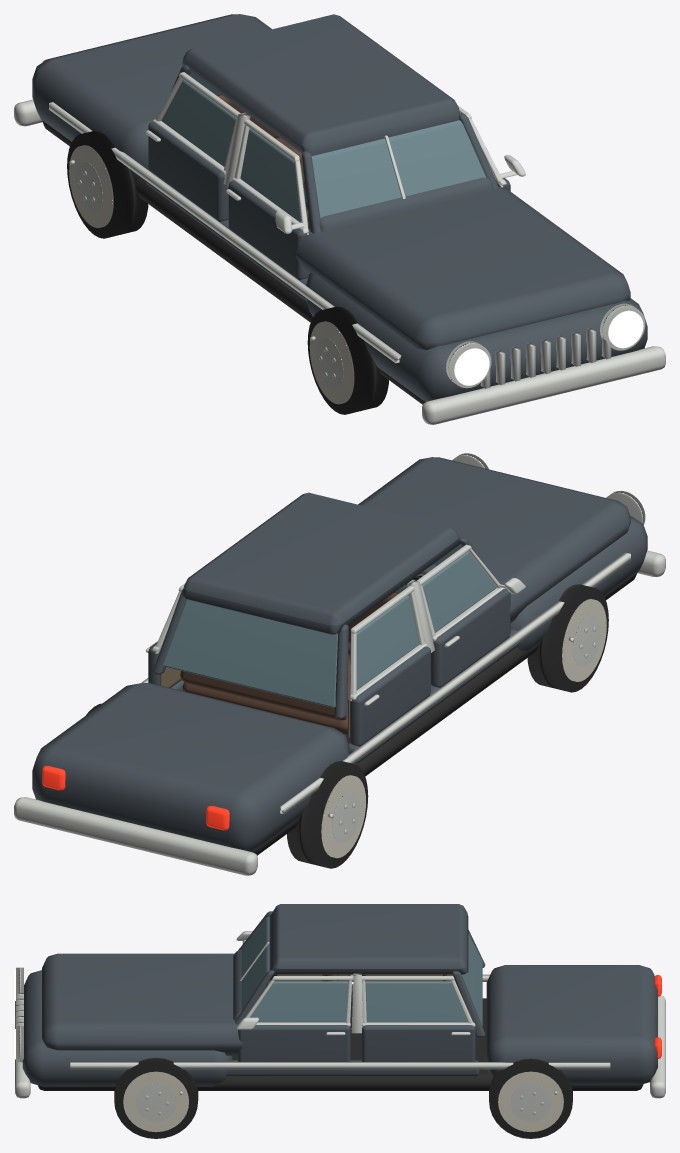
Rendered from packard.glb.
The picture shows the model from 3 angles, top to bottom: view 1: azimuth 30°, elevation 25°; view 2: azimuth 150°, elevation 25°; view 3: azimuth 270°, elevation 25°; orthographic projection. The views are drawn at different scales.
Parts seen in each view (by area): view 1: front body, windscreen divider, split windscreen, door skin.001, floor pan, door skin, door window.001, wheel.001, wheel, door window, headlight, door window surround (+5 smaller); view 2: front body, windscreen divider, split windscreen, door skin.001, door skin, bench cushion, floor pan, door window.001, wheel, wheel.001, door window, door window surround.002 (+6 smaller); view 3: front body, windscreen divider, floor pan, door skin.003, door skin.002, door window.003, door window.002, split windscreen, wheel.002, wheel.003, whitewall.003, whitewall.002 (+4 smaller).
Boxes of the visible parts, bbox=[...] form: front body: bbox=[32, 14, 647, 401]; windscreen divider: bbox=[14, 99, 665, 424]; split windscreen: bbox=[189, 72, 486, 217]; door skin.001: bbox=[148, 122, 228, 221]; floor pan: bbox=[42, 120, 425, 404]; door skin: bbox=[228, 180, 308, 279]; door window.001: bbox=[161, 80, 236, 166]; wheel.001: bbox=[67, 131, 148, 238]; wheel: bbox=[307, 306, 388, 414]; door window: bbox=[240, 128, 308, 225]; headlight: bbox=[454, 310, 643, 385]; door window surround: bbox=[226, 119, 308, 234]; front body: bbox=[32, 457, 647, 851]; windscreen divider: bbox=[14, 453, 665, 875]; split windscreen: bbox=[162, 544, 461, 707]; door skin.001: bbox=[350, 646, 430, 746]; door skin: bbox=[431, 588, 510, 687]; bench cushion: bbox=[180, 592, 398, 734]; floor pan: bbox=[251, 573, 636, 855]; door window.001: bbox=[350, 595, 418, 689]; wheel: bbox=[527, 584, 608, 692]; wheel.001: bbox=[287, 761, 368, 868]; door window: bbox=[422, 551, 496, 632]; door window surround.002: bbox=[350, 586, 427, 706]; front body: bbox=[22, 904, 657, 1086]; windscreen divider: bbox=[15, 931, 665, 1098]; floor pan: bbox=[38, 974, 643, 1090]; door skin.003: bbox=[362, 1025, 475, 1061]; door skin.002: bbox=[238, 1025, 350, 1061]; door window.003: bbox=[365, 981, 467, 1022]; door window.002: bbox=[250, 981, 348, 1022]; split windscreen: bbox=[241, 916, 482, 1025]; wheel.002: bbox=[114, 1057, 198, 1138]; wheel.003: bbox=[489, 1058, 572, 1138]; whitewall.003: bbox=[498, 1071, 563, 1131]; whitewall.002: bbox=[123, 1071, 188, 1132].
Size of the model in its own units: 2.08 by 1.57 by 5.75.
